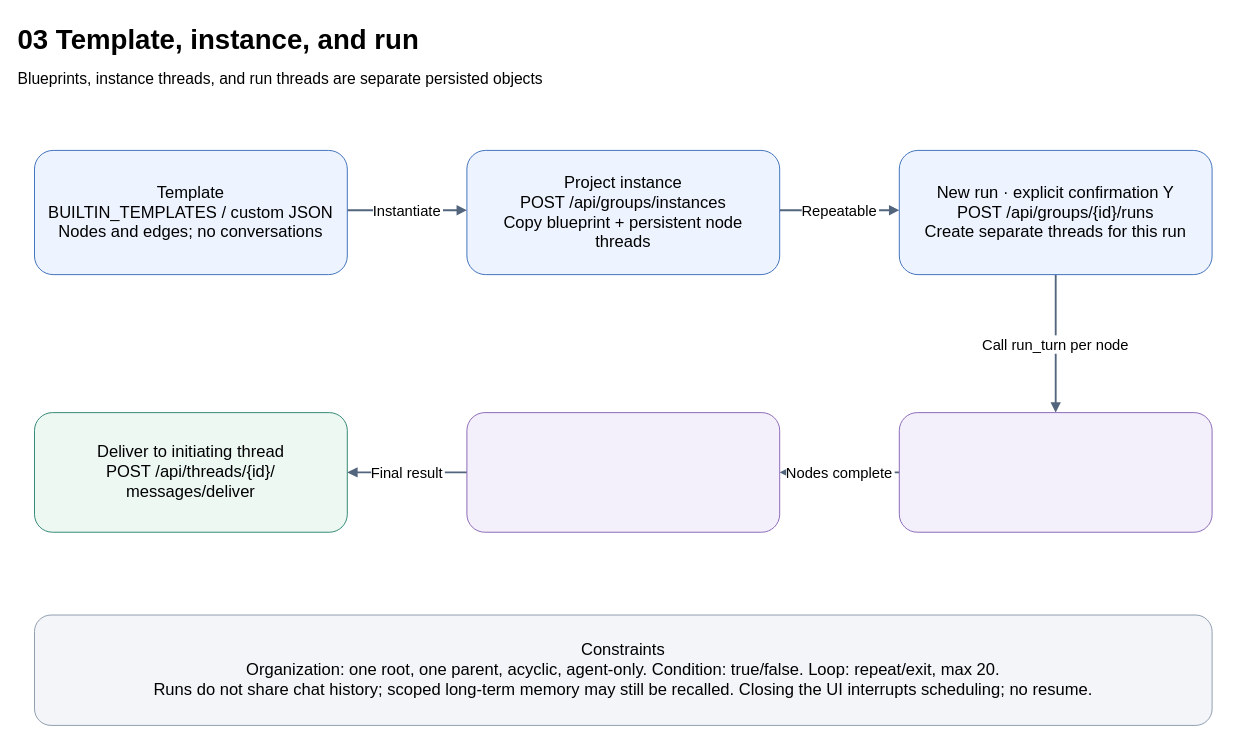
Image size: 1246x742. Some labels were removed from this diagram. Each missing label, with the centre of its shape:
"Serial UI scheduling agent / condition / loop Active upstream output → next node" belongs at (x=1055, y=472).
"Supervisor review supervisor_review Review node results and errors" belongs at (x=623, y=472).
